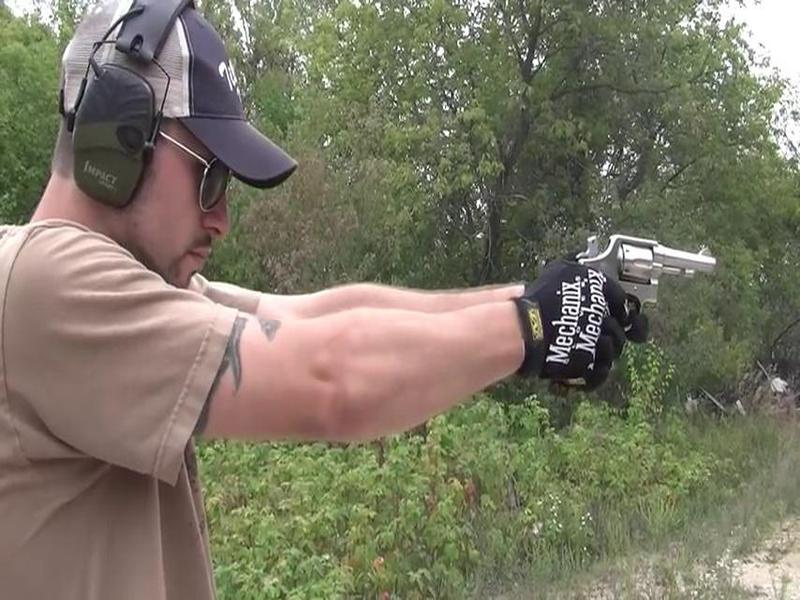Revolver: (561, 211, 721, 343)
